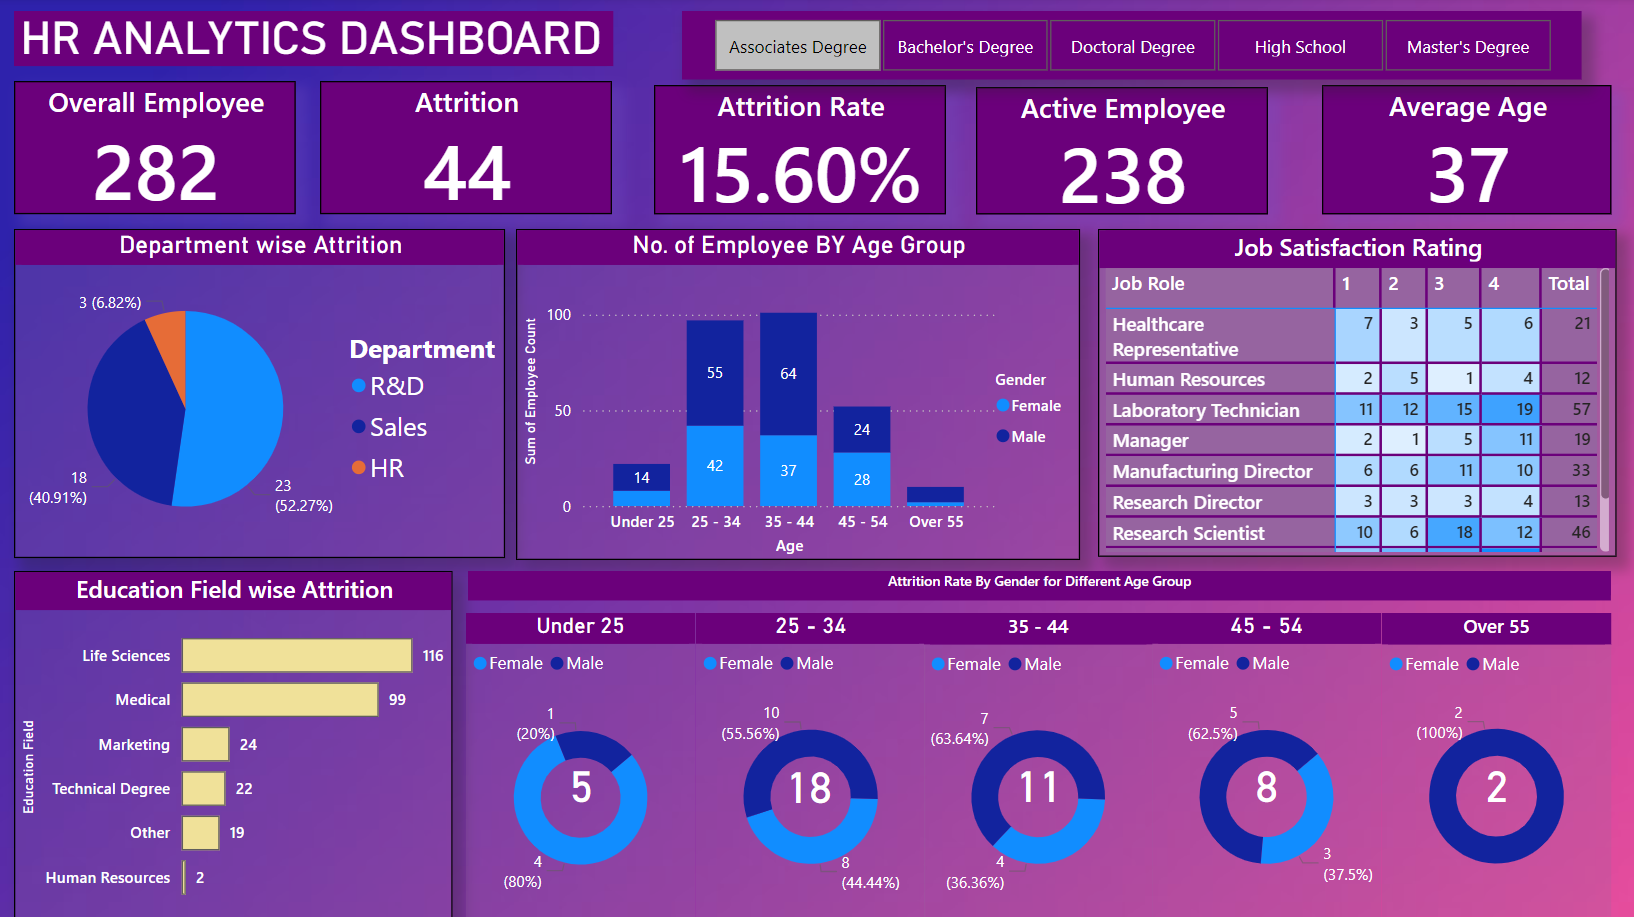

This screenshot's page, from the dashboard's own definition file:
{"tool":"powerbi","page":{"name":"Page 1","canvas":[1280,720],"ordinal":0},"visuals":[{"type":"card","title":"Overall Employee","fields":{"Values":["Sum(HR data.Employee Count)"]},"box":[13.8,65.7,220.1,103.9],"z":0},{"type":"card","title":"Attrition","fields":{"Values":["Sum(HR data.Attrition Count)"]},"box":[253.8,65.7,227.8,103.9],"z":1000},{"type":"card","title":"Attrition Rate","fields":{"Values":["HR data.Attrition Rate"]},"box":[513.6,68.8,227.8,100.9],"z":1001},{"type":"card","title":"Active Employee","fields":{"Values":["HR data.Active Employee"]},"box":[765.9,70.3,227.8,99.4],"z":1002},{"type":"card","title":"Average Age","fields":{"Values":["Avg(HR data.Age)"]},"box":[1034.9,68.8,226.2,100.9],"z":1003},{"type":"pieChart","title":"Department wise Attrition","fields":{"Category":["HR data.Department"],"Y":["Sum(HR data.Attrition Count)"]},"box":[13.8,181.9,383.7,256.8],"z":1004},{"type":"columnChart","title":"No. of Employee BY Age Group","fields":{"Y":["Sum(HR data.Employee Count)"],"Category":["HR data.CF_age band"],"Series":["HR data.Gender"]},"box":[406.6,181.9,440.3,258.3],"z":1005},{"type":"pivotTable","title":"Job Satisfaction Rating","fields":{"Rows":["HR data.Job Role"],"Columns":["HR data.Job Satisfaction"],"Values":["Sum(HR data.Employee Count)"]},"box":[860,181.9,405.1,256],"z":1006},{"type":"barChart","title":"Education Field wise Attrition","fields":{"Category":["HR data.Education Field"],"Y":["Sum(HR data.Employee Count)"]},"box":[14.2,448.2,342.5,271.5],"z":1007},{"type":"donutChart","title":"Under 25","fields":{"Category":["HR data.Gender"],"Y":["Sum(HR data.Attrition Count)"],"Series":["HR data.CF_age band"]},"box":[367.7,481.4,179,239.9],"z":1008},{"type":"donutChart","title":"25 - 34","fields":{"Category":["HR data.Gender"],"Y":["Sum(HR data.Attrition Count)"],"Series":["HR data.CF_age band"]},"box":[546.1,481.4,179,238.3],"z":1009},{"type":"donutChart","title":"35 - 44","fields":{"Category":["HR data.Gender"],"Y":["Sum(HR data.Attrition Count)"],"Series":["HR data.CF_age band"]},"box":[724.4,481.4,178.3,238.3],"z":1010},{"type":"donutChart","title":"45 - 54","fields":{"Y":["Sum(HR data.Attrition Count)"],"Series":["HR data.CF_age band"],"Category":["HR data.Gender"]},"box":[903.4,481.5,178.9,238.5],"z":1011},{"type":"donutChart","title":"Over 55","fields":{"Category":["HR data.Gender"],"Y":["Sum(HR data.Attrition Count)"],"Series":["HR data.CF_age band"]},"box":[1082.3,481.5,178.9,236.9],"z":1012},{"type":"textbox","title":"Attrition Rate By Gender for Different Age Group","box":[368.4,447.9,892.7,22.9],"z":1013},{"type":"card","fields":{"Values":["Sum(HR data.Attrition Count)"]},"box":[415.8,583.9,82.5,59.6],"z":1014},{"type":"card","fields":{"Values":["Sum(HR data.Attrition Count)"]},"box":[588.7,584.1,91.7,60.6],"z":1015},{"type":"card","fields":{"Values":["Sum(HR data.Attrition Count)"]},"box":[773.4,584,82.1,60],"z":1016},{"type":"card","fields":{"Values":["Sum(HR data.Attrition Count)"]},"box":[951.7,584,82.1,60],"z":1017},{"type":"card","fields":{"Values":["Sum(HR data.Attrition Count)"]},"box":[1130.1,584,82.1,60],"z":1018},{"type":"textbox","title":"HR ANALYTICS DASHBOARD","box":[13.8,10.7,467.8,42.8],"z":1019},{"type":"slicer","fields":{"Values":["HR data.Education"]},"box":[535,11,702.3,53.7],"z":1020}]}

Visuals, with their boxes in screenshot pixels (x1, y1, x2, y2), scaled from the page's 1280x720 canvas onto the 1634x917 screenshot:
"Overall Employee" card: [18,84,299,216]
"Attrition" card: [324,84,615,216]
"Attrition Rate" card: [656,88,946,216]
"Active Employee" card: [978,90,1269,216]
"Average Age" card: [1321,88,1610,216]
"Department wise Attrition" pieChart: [18,232,507,559]
"No. of Employee BY Age Group" columnChart: [519,232,1081,561]
"Job Satisfaction Rating" pivotTable: [1098,232,1615,558]
"Education Field wise Attrition" barChart: [18,571,455,916]
"Under 25" donutChart: [469,613,698,916]
"25 - 34" donutChart: [697,613,926,916]
"35 - 44" donutChart: [925,613,1152,916]
"45 - 54" donutChart: [1153,613,1382,916]
"Over 55" donutChart: [1382,613,1610,915]
"Attrition Rate By Gender for Different Age Group" textbox: [470,570,1610,600]
card - Sum(HR data.Attrition Count): [531,744,636,820]
card - Sum(HR data.Attrition Count): [752,744,869,821]
card - Sum(HR data.Attrition Count): [987,744,1092,820]
card - Sum(HR data.Attrition Count): [1215,744,1320,820]
card - Sum(HR data.Attrition Count): [1443,744,1547,820]
"HR ANALYTICS DASHBOARD" textbox: [18,14,615,68]
slicer - HR data.Education: [683,14,1579,82]
